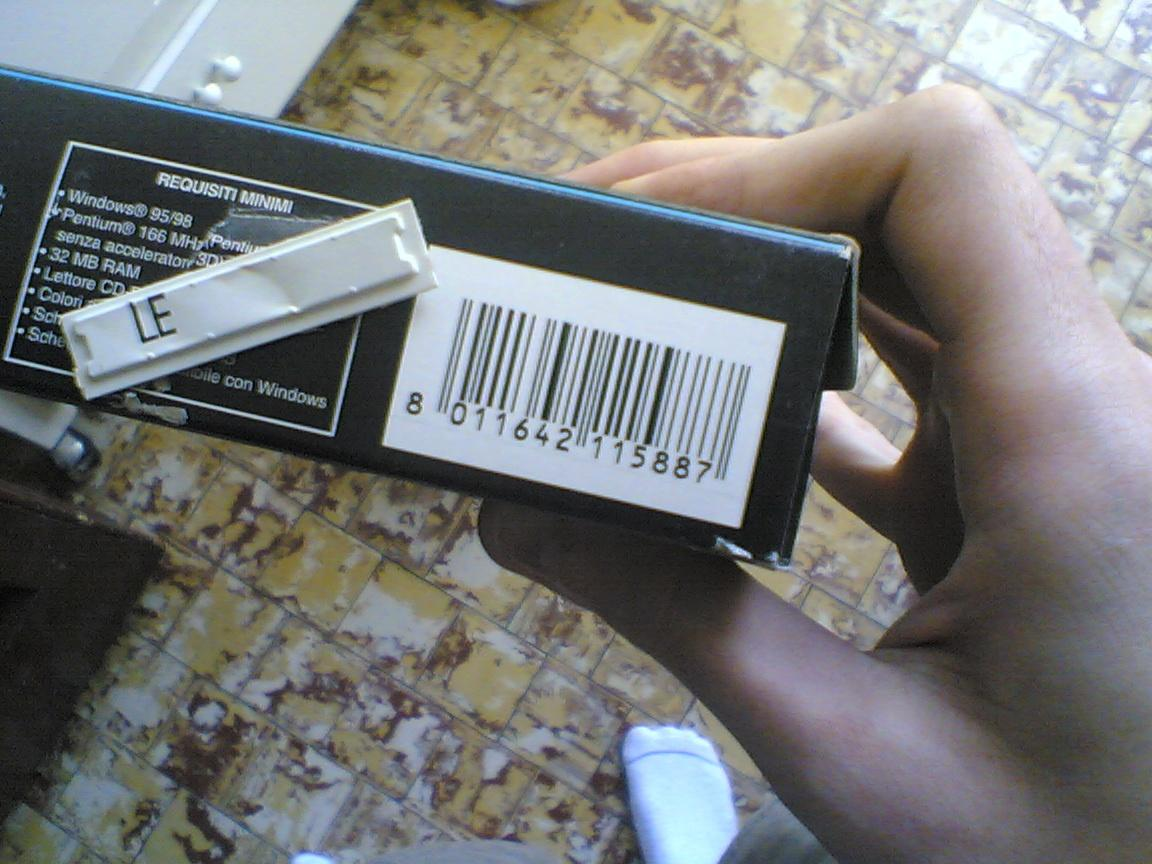Barcode: (382, 240, 789, 528)
